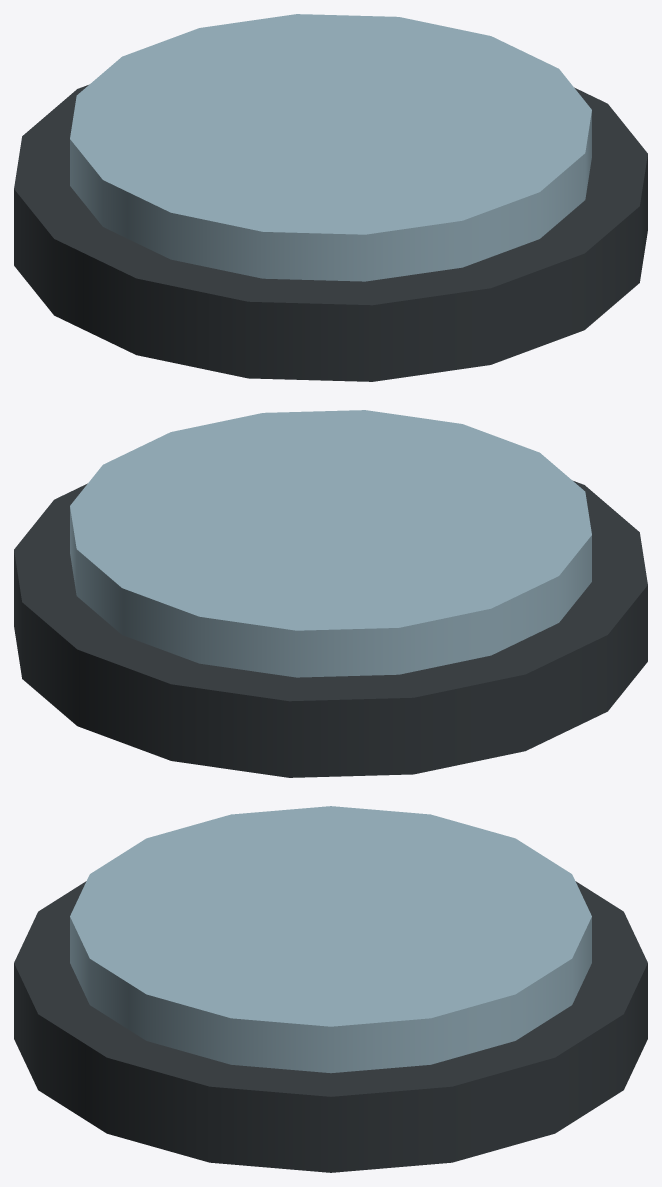
Rendered from glass_lens.glb.
3 renders of one model, top to bottom at view 1: azimuth 30°, elevation 25°; view 2: azimuth 150°, elevation 25°; view 3: azimuth 270°, elevation 25°, orthographic.
Parts seen in each view (by area): view 1: glass_lens; view 2: glass_lens; view 3: glass_lens.
Part boxes in pixels (x1=…): glass_lens: x1=14, y1=14, x2=647, y2=381; glass_lens: x1=14, y1=410, x2=647, y2=777; glass_lens: x1=14, y1=806, x2=647, y2=1172.
Bounding box in the file's own units: 0.068 × 0.0145 × 0.068.
